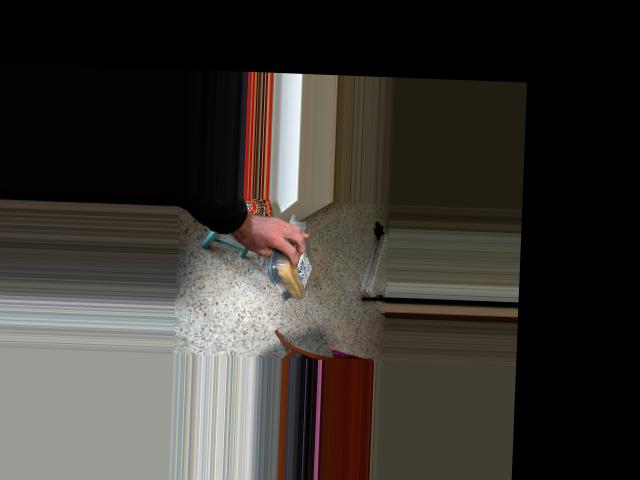cheese: (273, 225, 312, 300)
